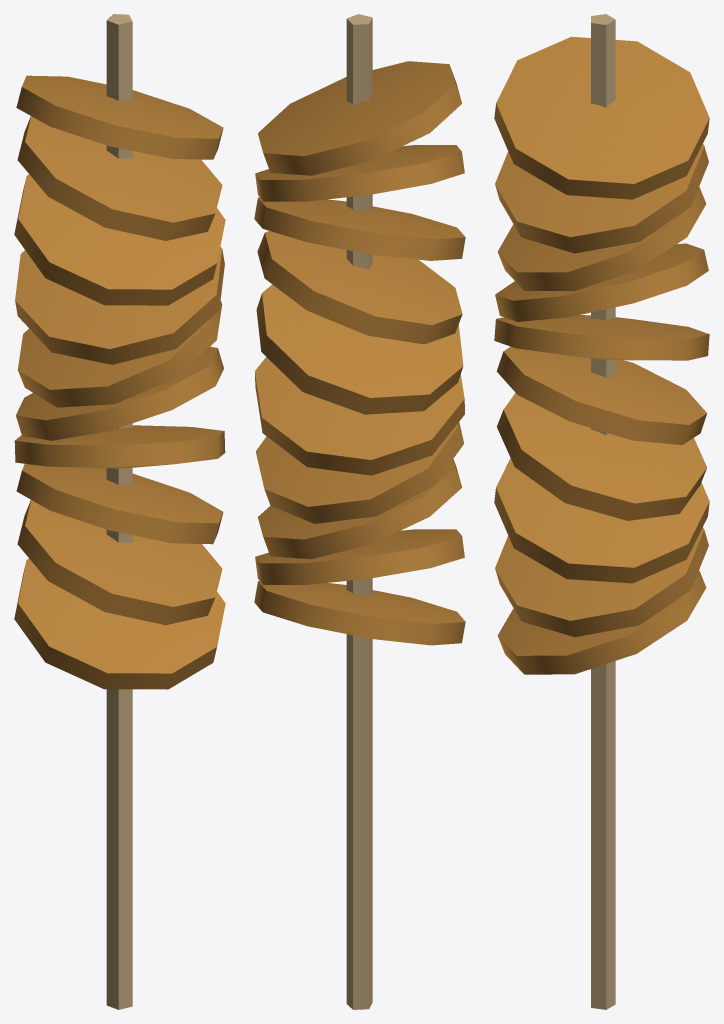
File: item_tornado.glb
The picture shows the model from 3 angles, left to right: view 1: azimuth 30°, elevation 25°; view 2: azimuth 150°, elevation 25°; view 3: azimuth 270°, elevation 25°; orthographic projection.
Visible parts, largest first — view 1: item_tornado; view 2: item_tornado; view 3: item_tornado.
Boxes of the visible parts, <box> form: item_tornado: <box>14,14,225,1009</box>; item_tornado: <box>254,14,465,1009</box>; item_tornado: <box>494,14,709,1009</box>.
Size of the model in its own units: 0.075 by 0.3952 by 0.0783.
